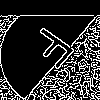F: (25, 25, 86, 77)
